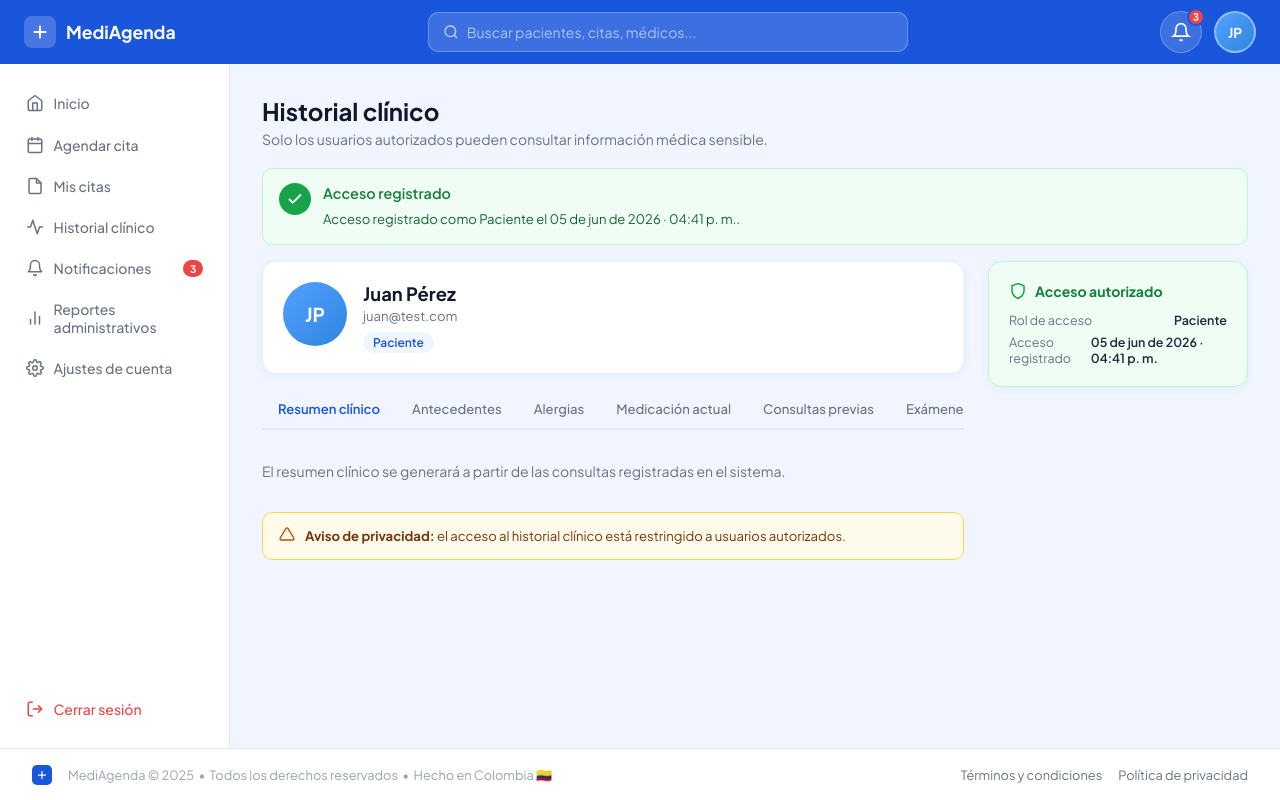
Test case: Componente Historial - MediAgenda › Tabs de navegación › debe cambiar a la pestaña Antecedentes al hacer clic
Click the button "Antecedentes". click: (457, 410)
box: [396,390,518,430]
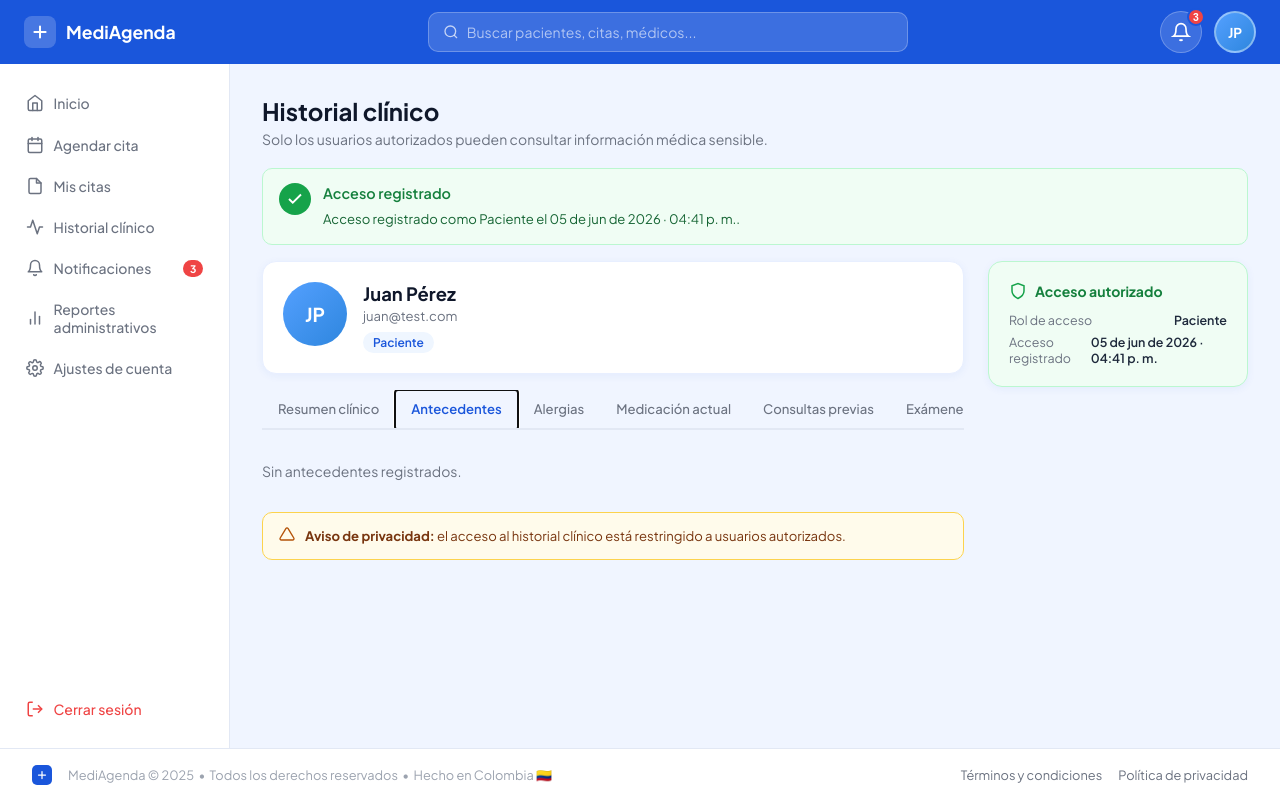
Now the text "Sin antecedentes registrados." is shown, box [262,462,462,480]
